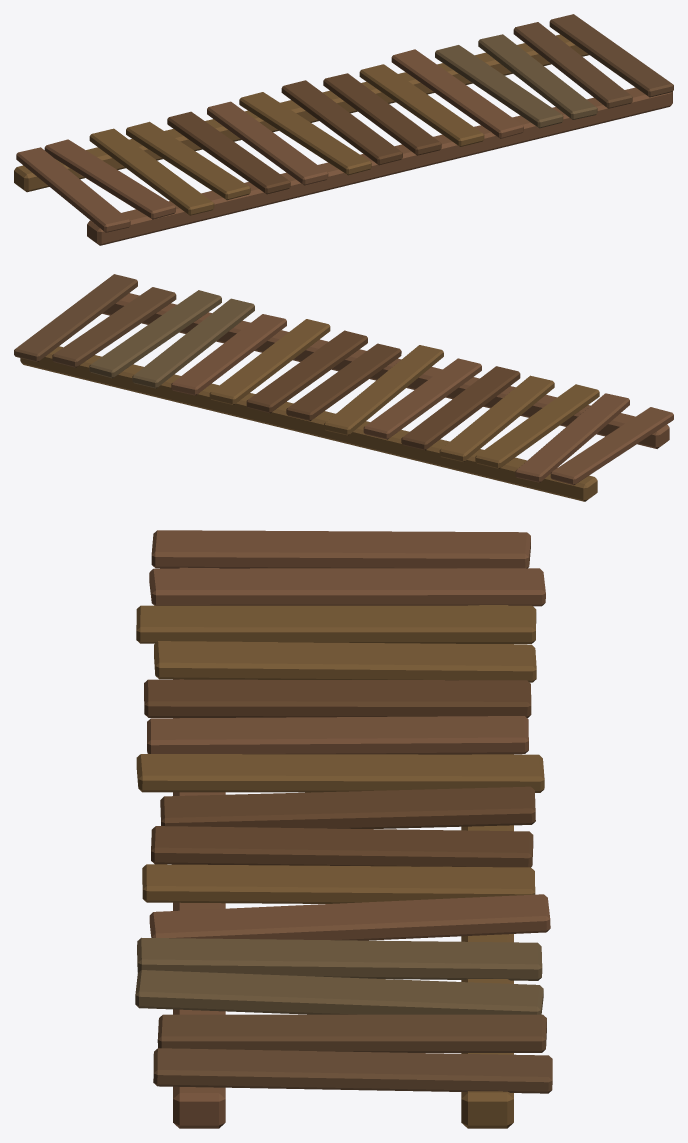
File: duckboard.glb
3 renders of one model, top to bottom at view 1: azimuth 30°, elevation 25°; view 2: azimuth 150°, elevation 25°; view 3: azimuth 270°, elevation 25°, orthographic. The views are drawn at different scales.
Parts seen in each view (by area): view 1: duckboard; view 2: duckboard; view 3: duckboard.
Boxes of the visible parts, x1,y1,x2,y2 form: duckboard: [14, 14, 673, 245]; duckboard: [14, 274, 673, 501]; duckboard: [135, 530, 552, 1128].
Size of the model in its own units: 2 by 0.0963 by 0.6374.
